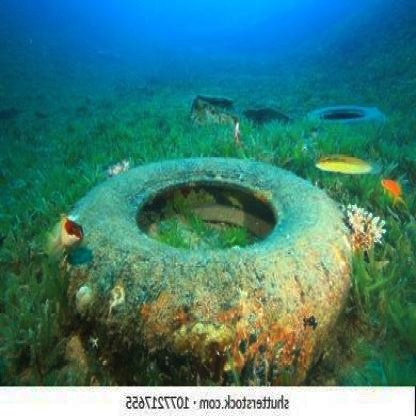tire: (69, 168, 335, 356), (314, 86, 383, 135)
